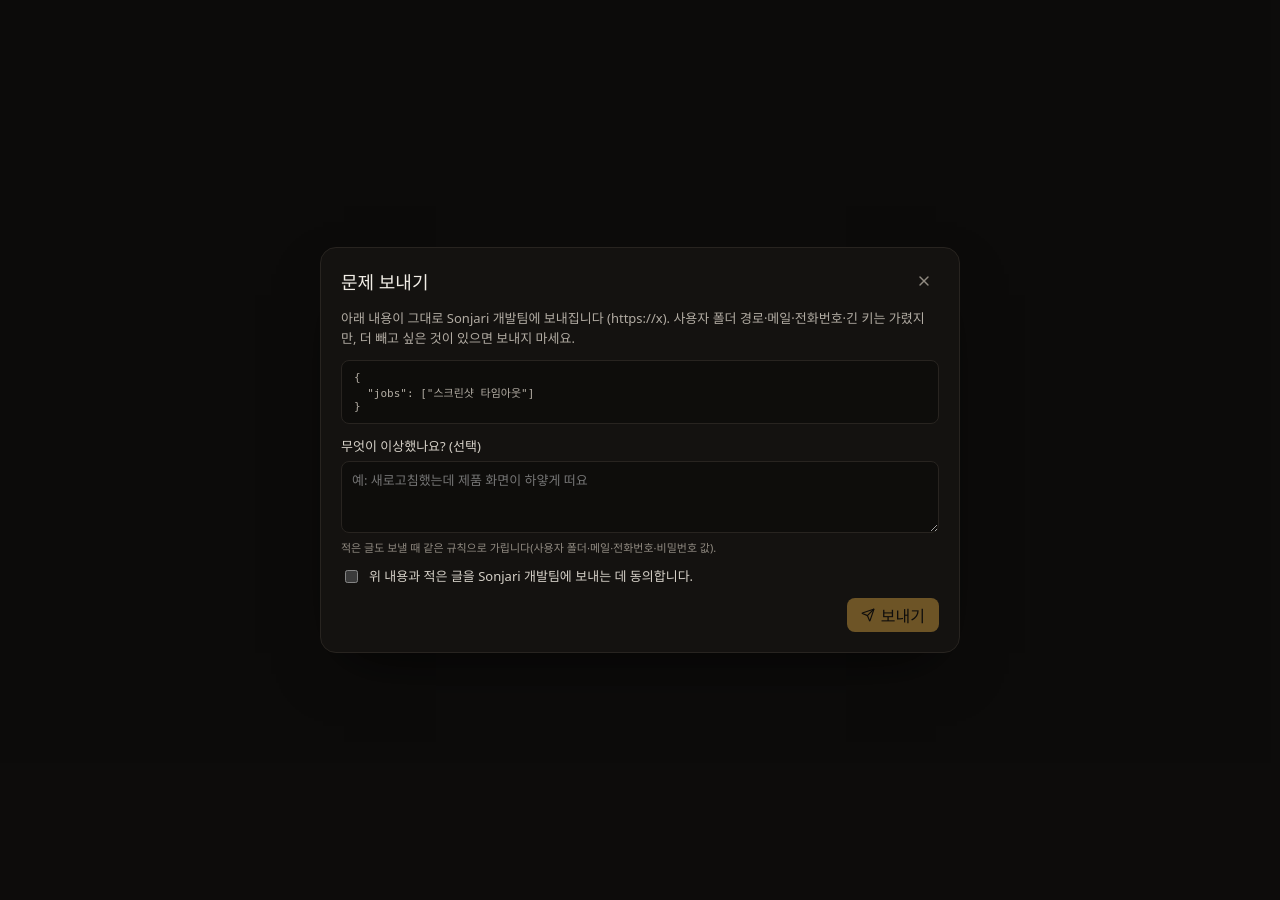
Test: 서버가 막으면 이유를 사람 말로 말한다
The image size is (1280, 900).
Click the checkbox labelled "위 내용과 적은 글을 Sonjari 개발팀에 보내는 데 동의합니다.": (352, 577) [345,570,358,583]
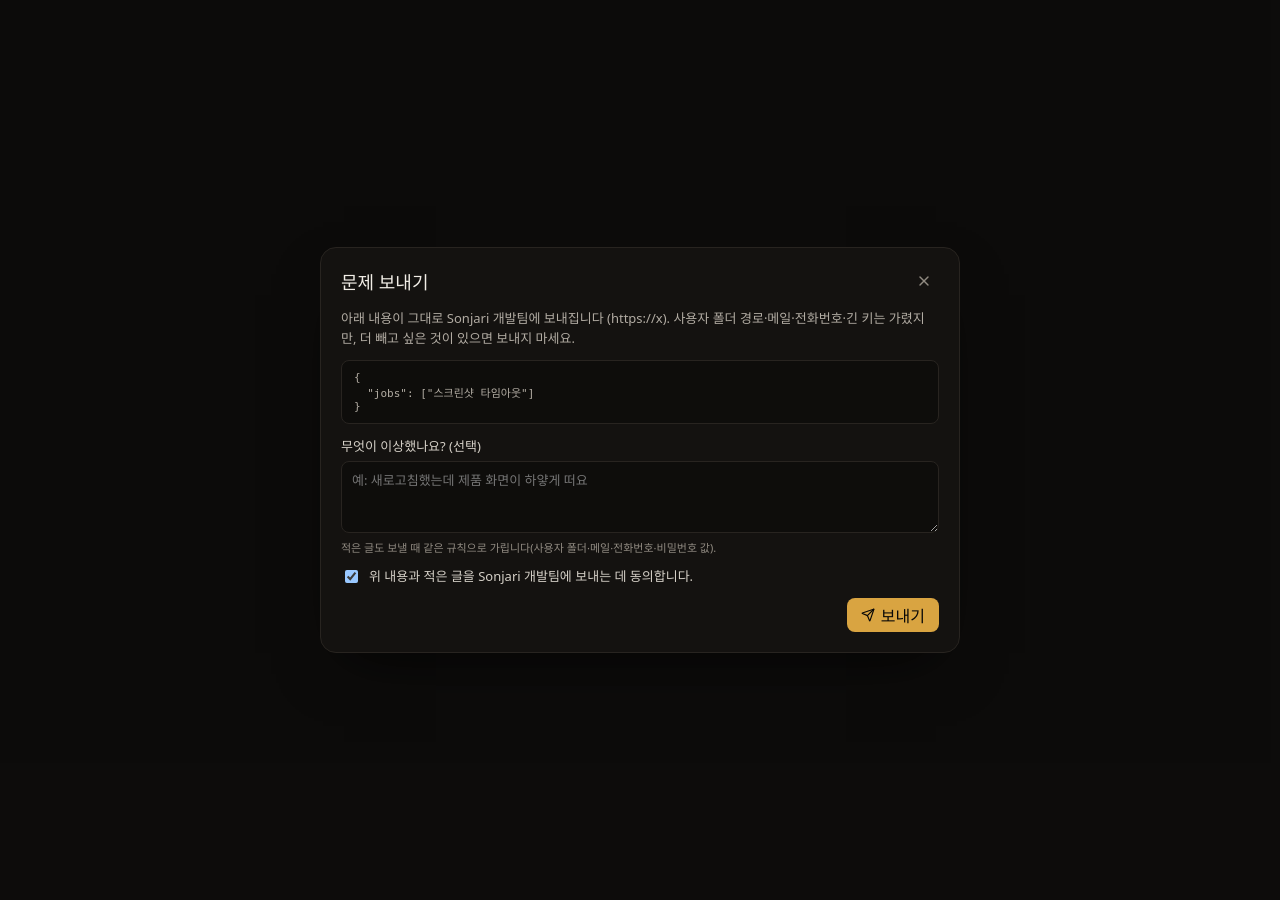
Click the button "보내기": (893, 615) [847,598,939,632]
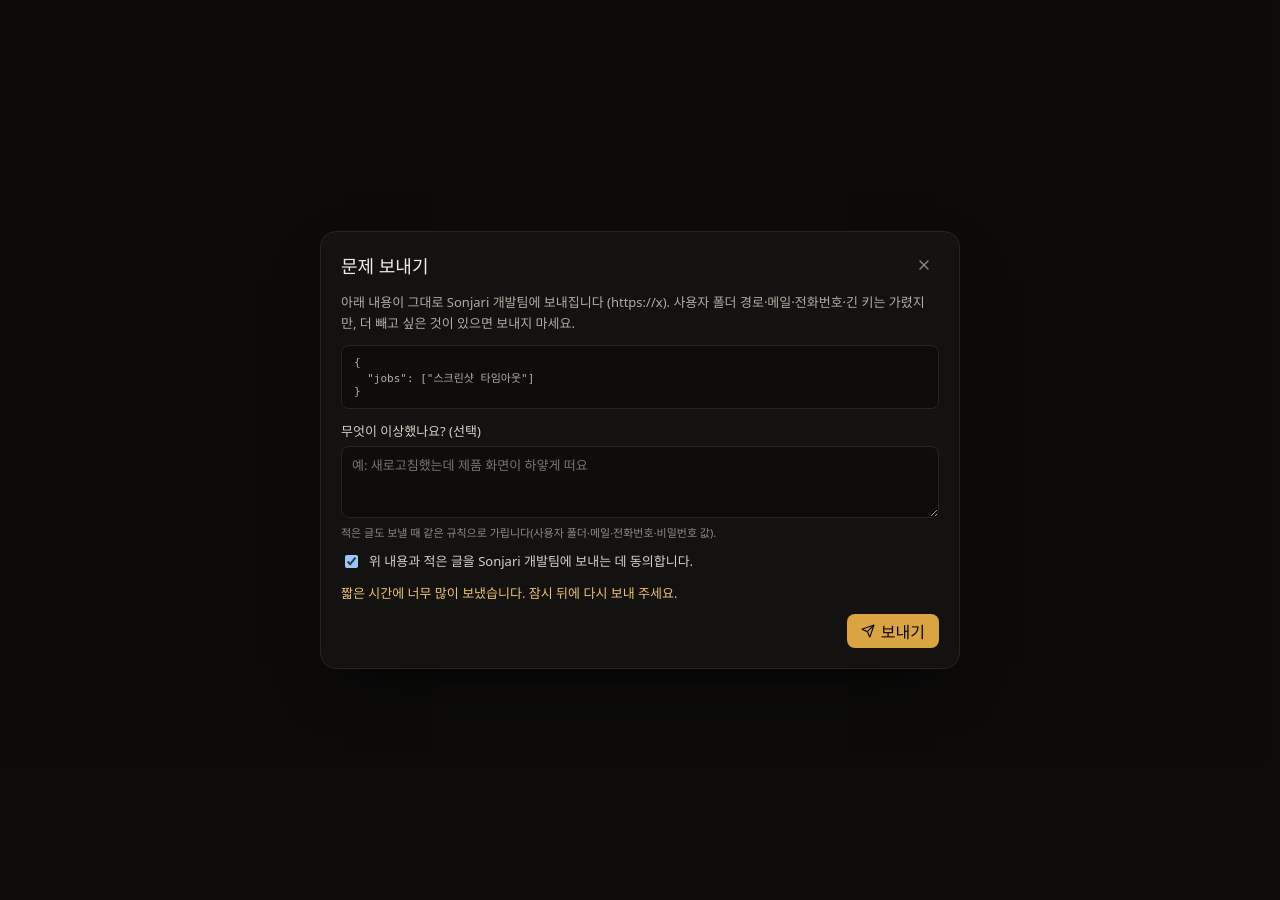
Now the message with class "report-error" shows "너무 많이", box [341,584,677,602]
